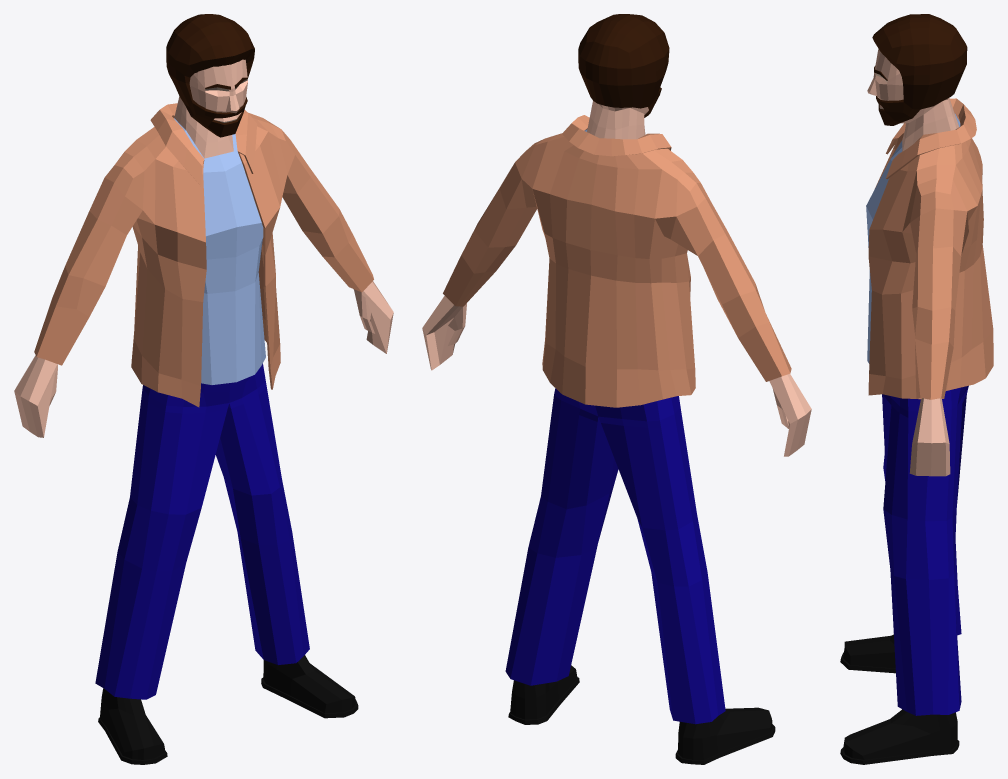
File: character27.glb
3 views of the same model, side by side, from view 1: azimuth 30°, elevation 25°; view 2: azimuth 150°, elevation 25°; view 3: azimuth 270°, elevation 25° (orthographic). The views are drawn at different scales.
Visible parts, largest first — view 1: base_mesh, jacket, head_hair; view 2: jacket, base_mesh, head_hair; view 3: base_mesh, jacket, head_hair.
Boxes of the visible parts, <box> form: base_mesh: <box>14,59,393,764</box>; jacket: <box>34,103,373,407</box>; head_hair: <box>166,14,254,137</box>; jacket: <box>443,115,791,407</box>; base_mesh: <box>422,101,811,764</box>; head_hair: <box>578,14,669,117</box>; base_mesh: <box>840,49,968,764</box>; jacket: <box>868,98,993,399</box>; head_hair: <box>872,14,967,125</box>.
Size of the model in its own units: 1.02 by 1.84 by 0.3709.
